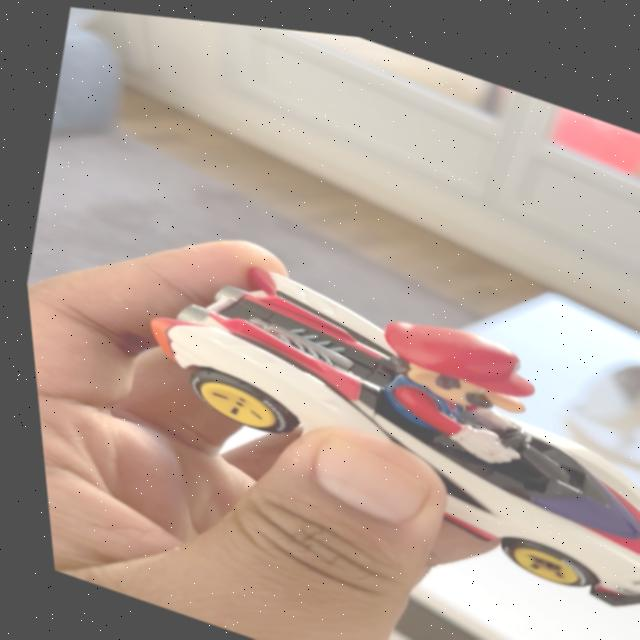mario: (75, 204, 640, 616)
